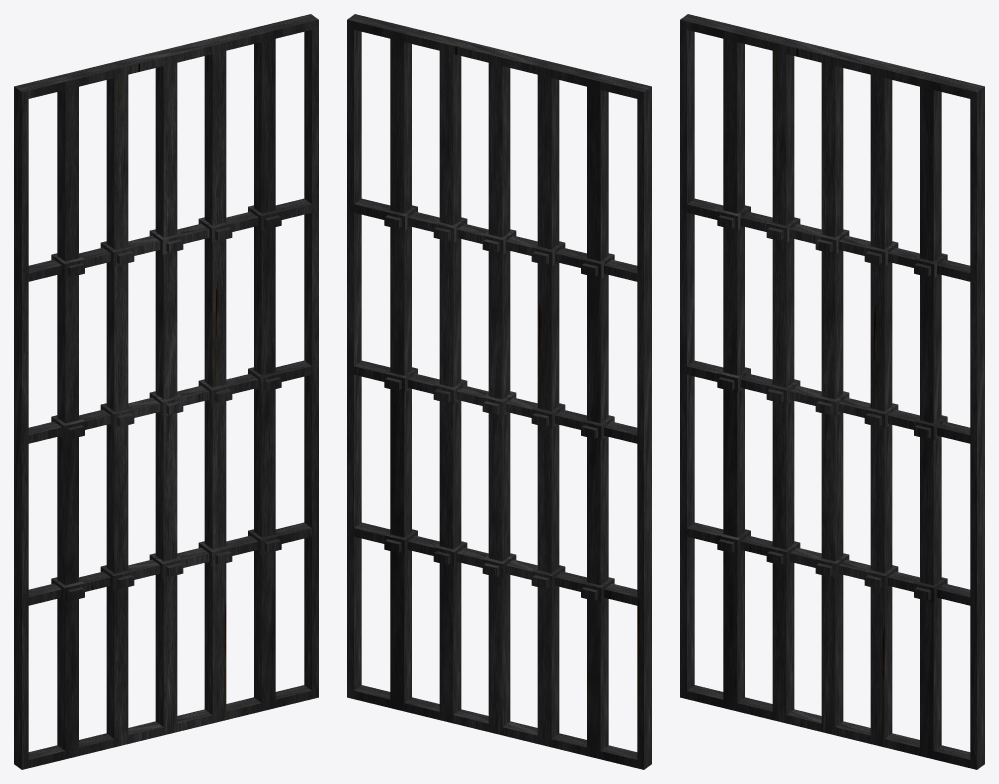
Rendered from barreau_porte.glb.
3 renders of one model, left to right at view 1: azimuth 30°, elevation 25°; view 2: azimuth 150°, elevation 25°; view 3: azimuth 330°, elevation 25°, orthographic.
Visible parts, largest first — view 1: Porte; view 2: Porte; view 3: Porte.
Part boxes in pixels (x1=…): Porte: x1=14, y1=14, x2=318, y2=769; Porte: x1=347, y1=14, x2=651, y2=769; Porte: x1=680, y1=14, x2=984, y2=769.
Bounding box in the file's own units: 1.34 × 2.93 × 0.1446.
Materials: 1 (1 with a texture image).
